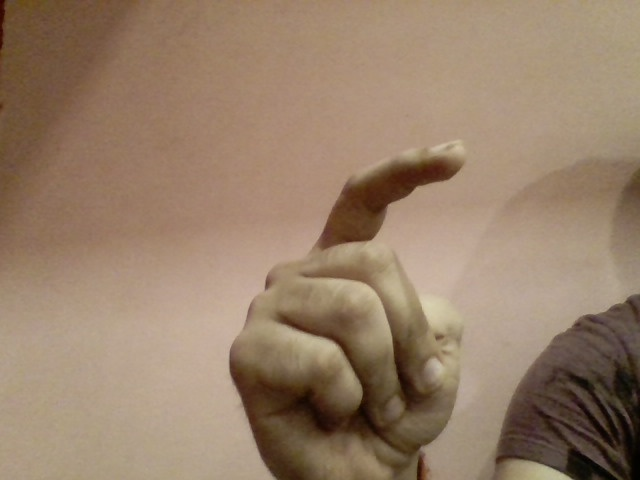x: (211, 126, 484, 480)
